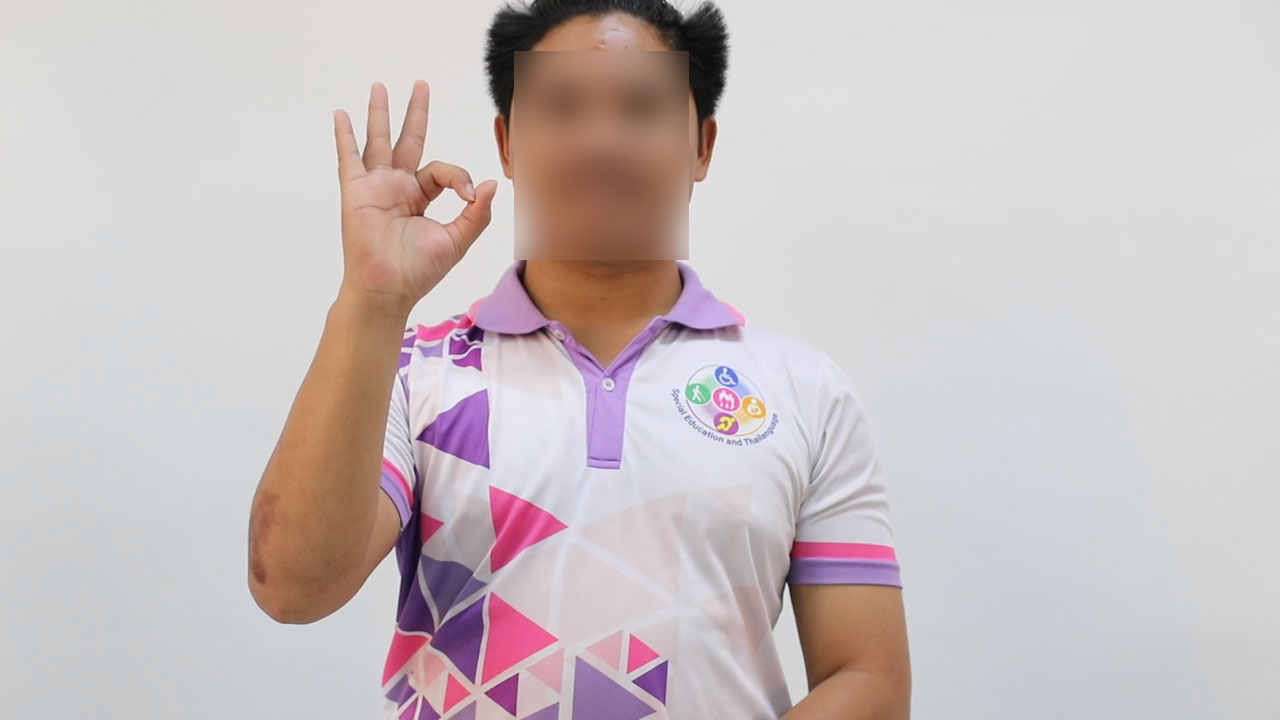for: (310, 64, 507, 329)
